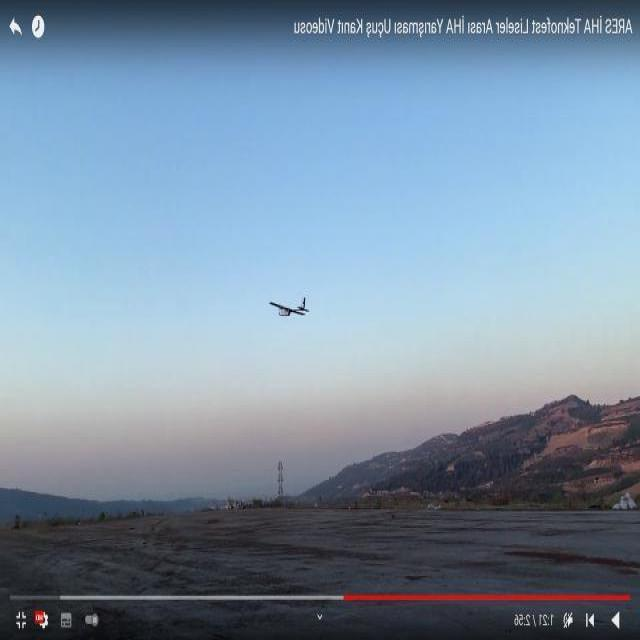iha: (265, 290, 314, 326)
